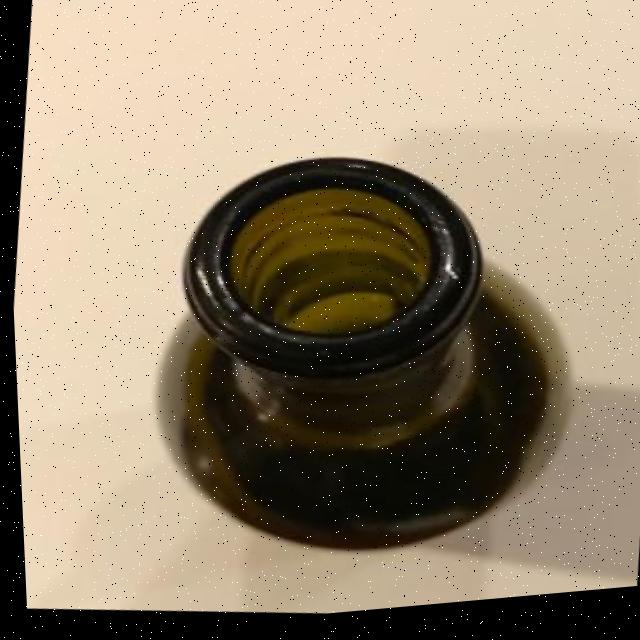glass: (107, 121, 578, 597)
